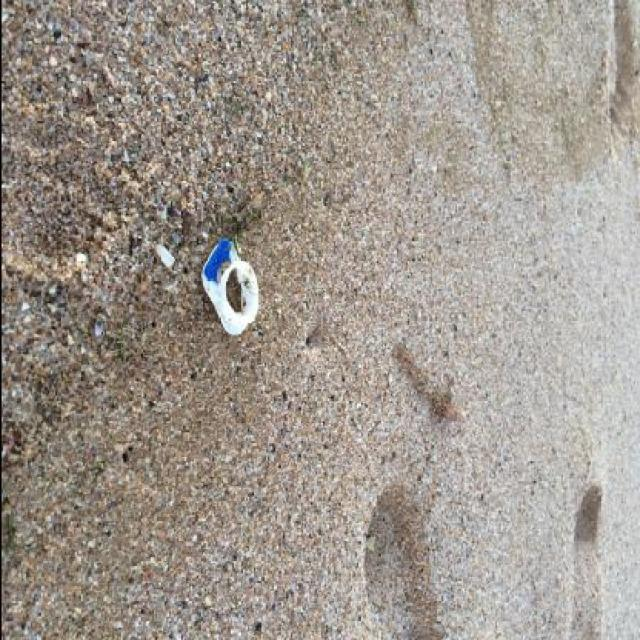plastic: (200, 238, 258, 336)
